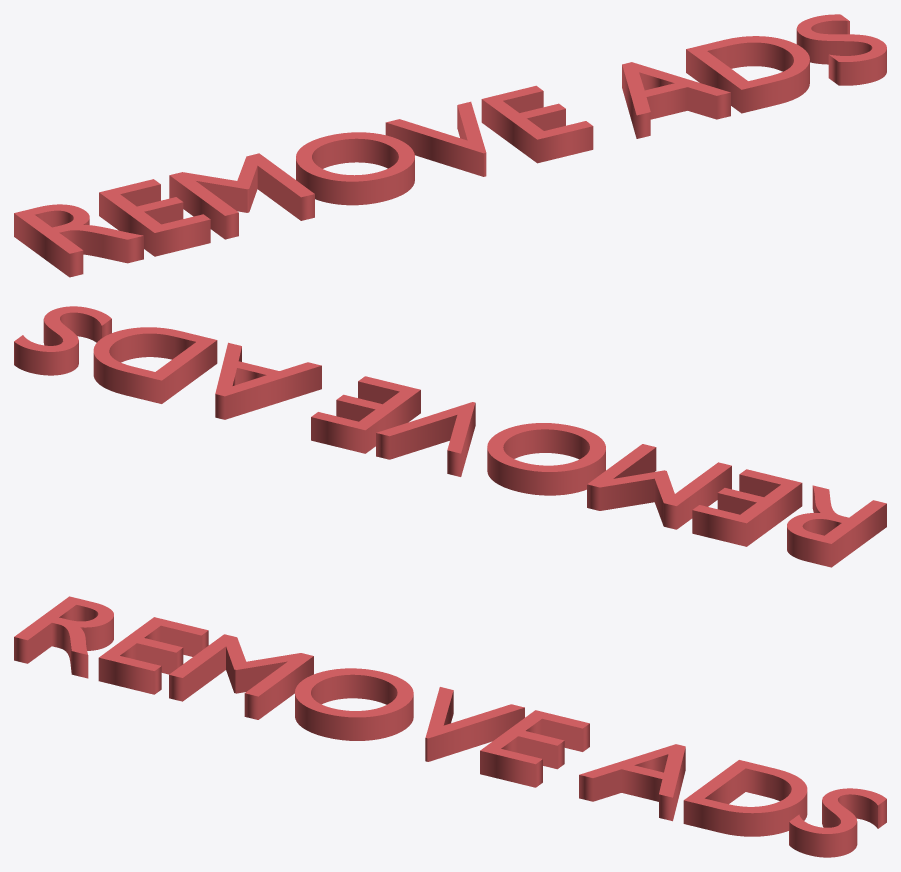
The model's file is REMOVE ADS.fbx.
The picture shows the model from 3 angles, top to bottom: view 1: azimuth 30°, elevation 25°; view 2: azimuth 150°, elevation 25°; view 3: azimuth 330°, elevation 25°; orthographic projection.
Visible parts, largest first — view 1: REMOVE ADS; view 2: REMOVE ADS; view 3: REMOVE ADS.
Boxes of the visible parts, x1,y1,x2,y2 form: REMOVE ADS: (14,14,886,277); REMOVE ADS: (14,306,886,567); REMOVE ADS: (14,596,886,857).
Bounding box in the file's own units: 586 × 16 × 70.
